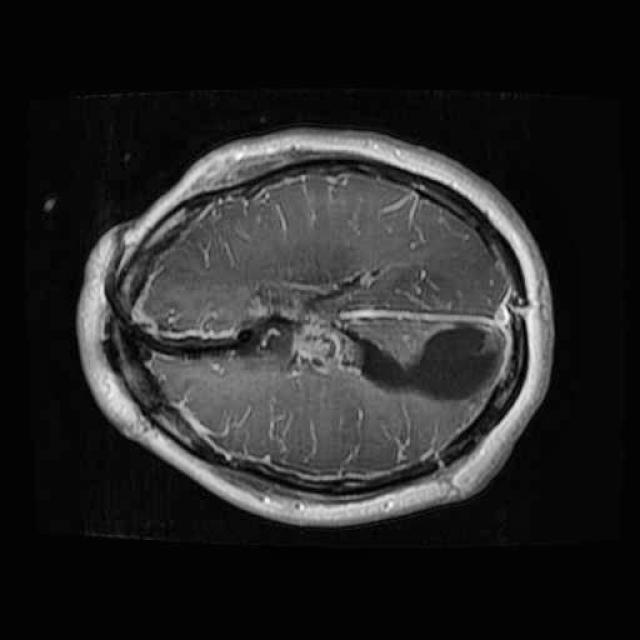Non-Tumor: (138, 298, 510, 409)
